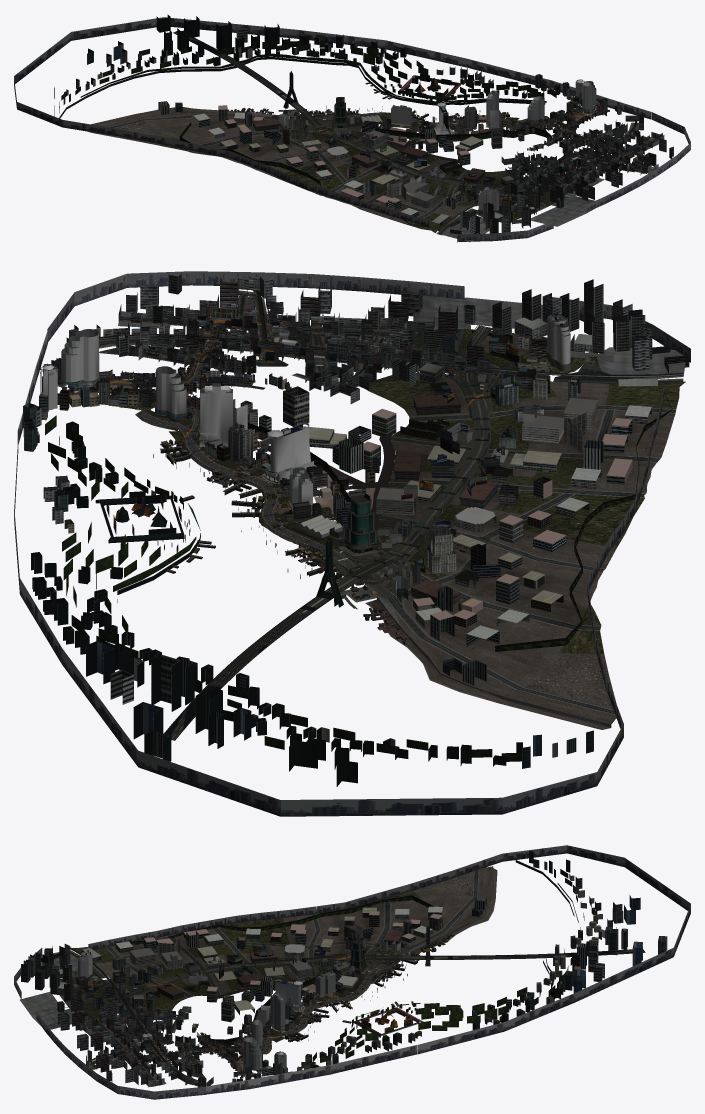
The model's file is golden city.glb.
3 views of the same model, one above another, from view 1: azimuth 30°, elevation 25°; view 2: azimuth 150°, elevation 25°; view 3: azimuth 270°, elevation 25° (orthographic). The views are drawn at different scales.
Visible parts, largest first — view 1: mesh; view 2: mesh; view 3: mesh.
Boxes of the visible parts, x1,y1,x2,y2 form: mesh: [14, 14, 690, 242]; mesh: [14, 271, 690, 816]; mesh: [14, 845, 690, 1099].
Size of what is drawn, in the model's own units: 3241 by 266 by 3755.
Materials: 99 (98 with a texture image).
